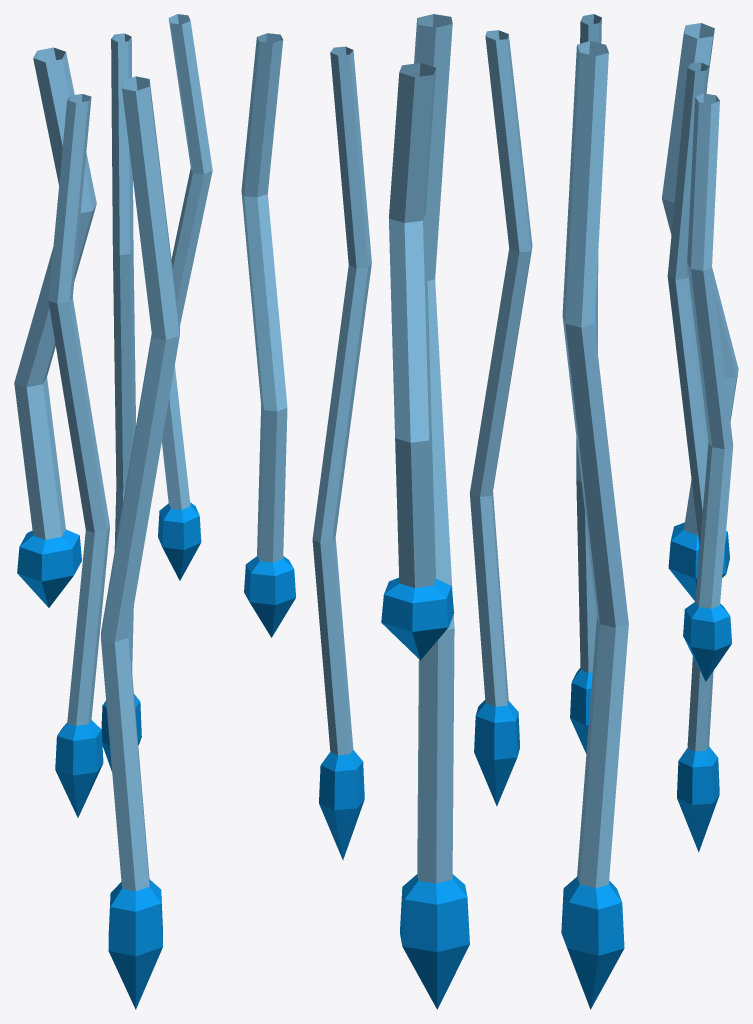
The model's file is sp_plant06.glb.
The picture shows the model from 3 angles, left to right: view 1: azimuth 30°, elevation 25°; view 2: azimuth 150°, elevation 25°; view 3: azimuth 270°, elevation 25°; orthographic projection. The views are drawn at different scales.
Parts seen in each view (by area): view 1: SP_Plant06; view 2: SP_Plant06; view 3: SP_Plant06.
Boxes of the visible parts, x1,y1,x2,y2 form: SP_Plant06: [14, 14, 212, 1009]; SP_Plant06: [241, 14, 532, 1009]; SP_Plant06: [561, 14, 738, 1009].
Bounding box in the file's own units: 26.16 × 107 × 17.85.
Materials: 1 (1 with a texture image).
